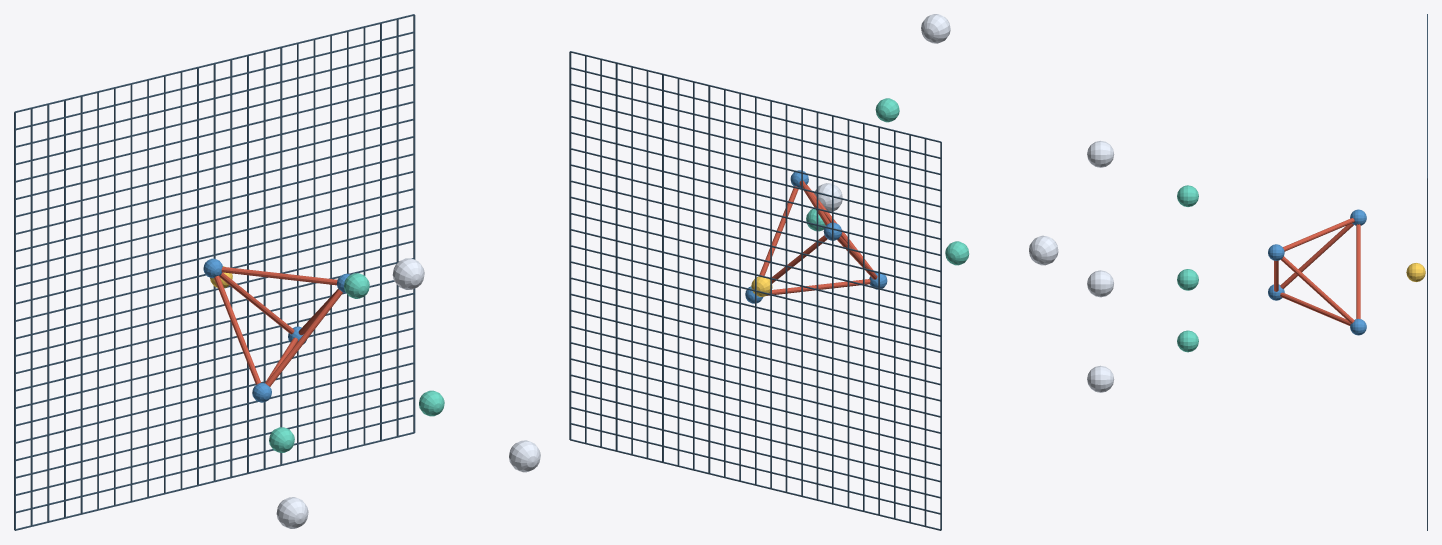
File: zero_particles.obj
The picture shows the model from 3 angles, left to right: view 1: azimuth 30°, elevation 25°; view 2: azimuth 150°, elevation 25°; view 3: azimuth 270°, elevation 25°; orthographic projection. The views are drawn at different scales.
Parts seen in each view (by area): view 1: stage_bar_x2, stage_bar_x1, stage_bar_x7, stage_bar_x10, stage_bar_x4, stage_bar_x24, stage_bar_x23, stage_bar_x18, stage_bar_x21, stage_bar_x12, stage_bar_x13, stage_bar_x15 (+44 smaller); view 2: stage_bar_x1, stage_bar_x21, stage_bar_x8, stage_bar_x24, stage_bar_x15, stage_bar_x10, stage_bar_x19, stage_bar_x6, stage_bar_x17, stage_bar_y24, stage_bar_y10, stage_bar_y4 (+40 smaller); view 3: particle1, particle3, particle2, k4_e0, k4_e5, k4_e3, k4_e1, k4_e4.
Part boxes in pixels (<box>): stage_bar_x2: <box>47,104,49,521</box>; stage_bar_x1: <box>30,108,32,525</box>; stage_bar_x7: <box>130,84,132,501</box>; stage_bar_x10: <box>180,72,182,489</box>; stage_bar_x4: <box>80,96,82,513</box>; stage_bar_x24: <box>413,15,415,432</box>; stage_bar_x23: <box>396,19,398,436</box>; stage_bar_x18: <box>313,40,315,456</box>; stage_bar_x21: <box>363,27,365,444</box>; stage_bar_x12: <box>213,64,215,480</box>; stage_bar_x13: <box>230,60,232,476</box>; stage_bar_x15: <box>263,51,265,468</box>; stage_bar_x1: <box>924,138,926,525</box>; stage_bar_x21: <box>615,63,617,450</box>; stage_bar_x8: <box>816,112,818,499</box>; stage_bar_x24: <box>569,51,571,439</box>; stage_bar_x15: <box>708,86,710,473</box>; stage_bar_x10: <box>785,104,787,492</box>; stage_bar_x19: <box>646,71,648,458</box>; stage_bar_x6: <box>847,120,849,507</box>; stage_bar_x17: <box>677,78,679,465</box>; stage_bar_y24: <box>570,51,941,142</box>; stage_bar_y10: <box>570,277,940,368</box>; stage_bar_y4: <box>570,374,940,465</box>; particle1: <box>1087,140,1114,167</box>; particle3: <box>1087,365,1114,392</box>; particle2: <box>1087,270,1113,297</box>; k4_e0: <box>1281,256,1354,323</box>; k4_e5: <box>1280,223,1353,288</box>; k4_e3: <box>1356,224,1360,318</box>; k4_e1: <box>1283,218,1354,251</box>; k4_e4: <box>1280,292,1350,325</box>.
Bounding box in the file's own units: 306 × 306 × 268.
